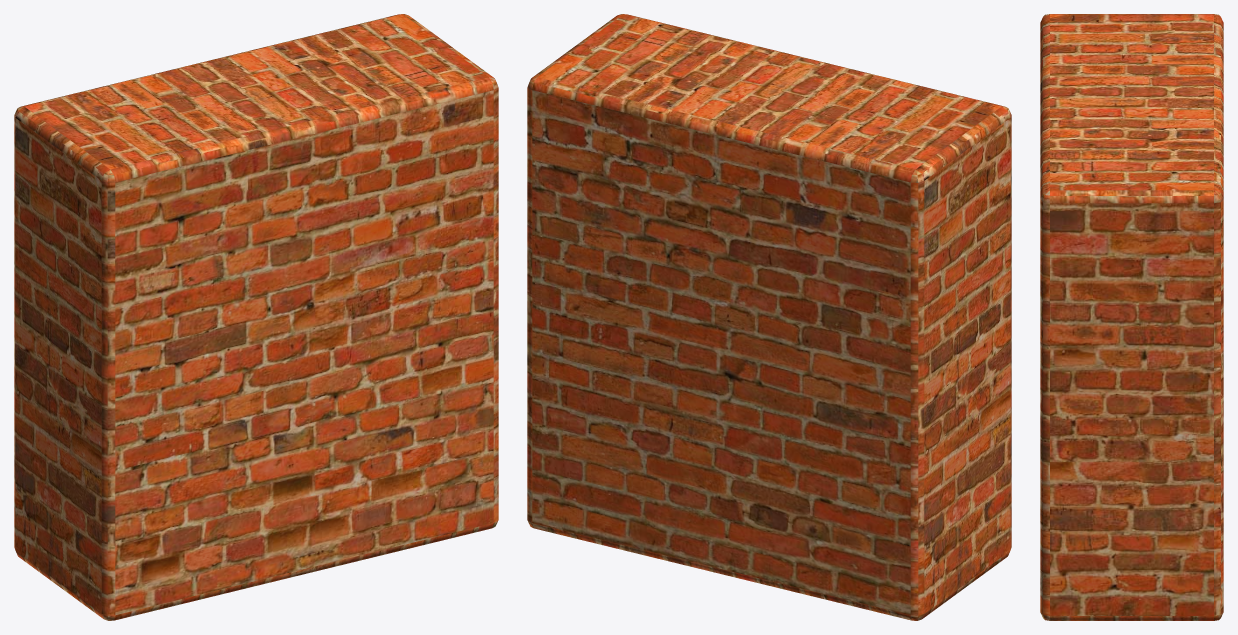
3 views of the same model, side by side, from view 1: azimuth 30°, elevation 25°; view 2: azimuth 150°, elevation 25°; view 3: azimuth 270°, elevation 25° (orthographic). The views are drawn at different scales.
Parts seen in each view (by area): view 1: Combined_Mesh__root__scene___80628_scene__2; view 2: Combined_Mesh__root__scene___80628_scene__2; view 3: Combined_Mesh__root__scene___80628_scene__2.
Part boxes in pixels (x1=…): Combined_Mesh__root__scene___80628_scene__2: x1=14, y1=14, x2=498, y2=620; Combined_Mesh__root__scene___80628_scene__2: x1=527, y1=14, x2=1011, y2=620; Combined_Mesh__root__scene___80628_scene__2: x1=1040, y1=14, x2=1223, y2=620.
Bounding box in the file's own units: 9 × 9.8 × 3.79.
